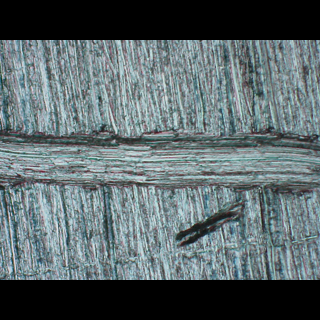d: (0, 120, 319, 249)
